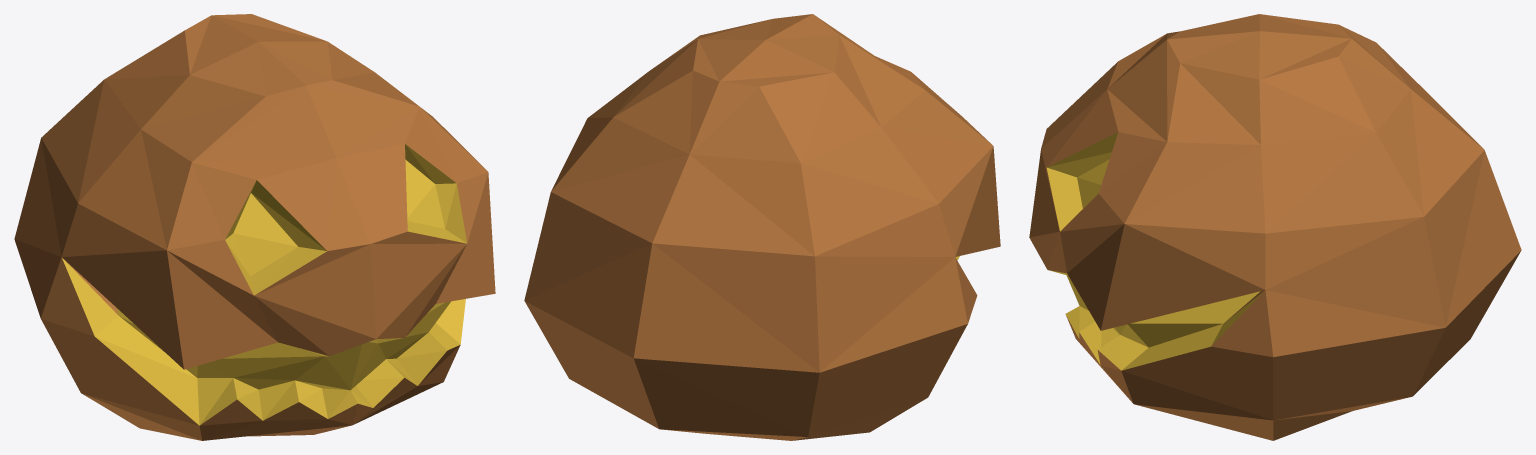
The model's file is pumpkin_01.fbx.
3 renders of one model, left to right at view 1: azimuth 30°, elevation 25°; view 2: azimuth 150°, elevation 25°; view 3: azimuth 270°, elevation 25°, orthographic. The views are drawn at different scales.
Parts seen in each view (by area): view 1: pumpkin_01; view 2: pumpkin_01; view 3: pumpkin_01.
Part boxes in pixels (bbox=[...]): pumpkin_01: bbox=[14, 14, 495, 440]; pumpkin_01: bbox=[524, 14, 1000, 440]; pumpkin_01: bbox=[1029, 14, 1521, 440].
Size of the model in its own units: 2.37 by 2.03 by 2.45.
